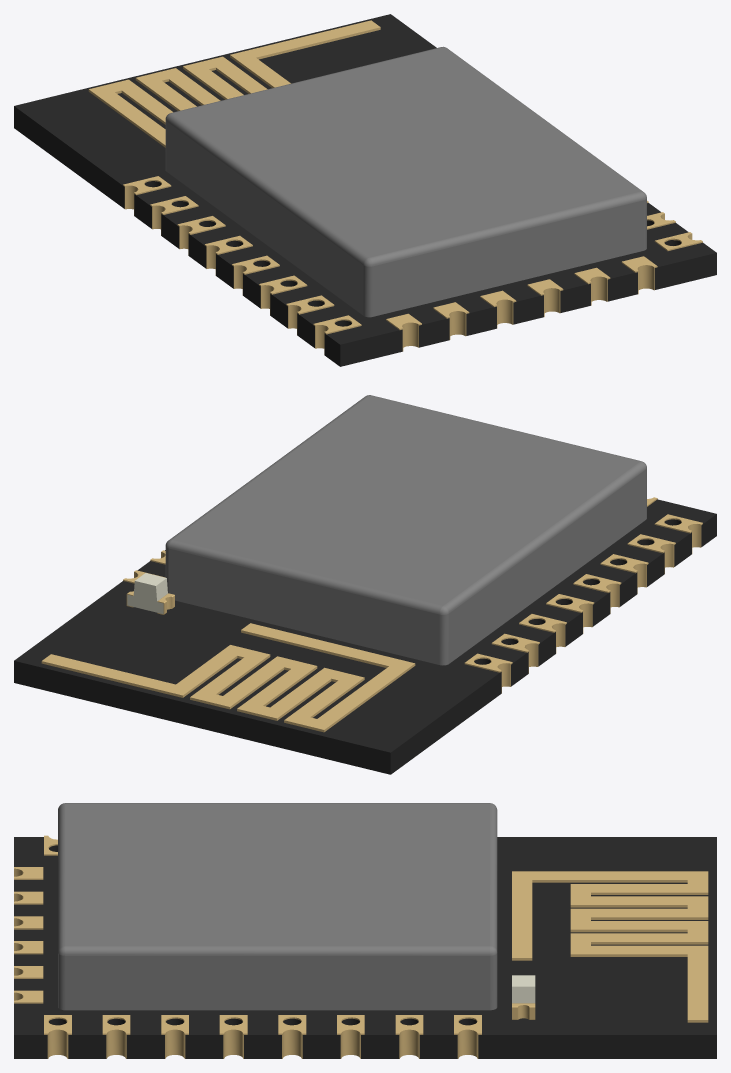
Rendered from kc-esp-12e.glb.
The picture shows the model from 3 angles, top to bottom: view 1: azimuth 30°, elevation 25°; view 2: azimuth 150°, elevation 25°; view 3: azimuth 270°, elevation 25°; orthographic projection. The views are drawn at different scales.
Visible parts, largest first — view 1: 0.25_0.25_0.25_0, 0_0_0_0, 0.75_0.5_0.25_0.9; view 2: 0.25_0.25_0.25_0, 0_0_0_0, 0.75_0.5_0.25_0.9, 0.75_0.75_0.6666666666666666_0; view 3: 0.25_0.25_0.25_0, 0_0_0_0, 0.75_0.5_0.25_0.9, 0.75_0.75_0.6666666666666666_0.
Part boxes in pixels (box(x1,y1,x2,y2)): 0.25_0.25_0.25_0: box(165, 46, 646, 317); 0_0_0_0: box(14, 14, 716, 366); 0.75_0.5_0.25_0.9: box(88, 20, 702, 354); 0.25_0.25_0.25_0: box(165, 395, 646, 665); 0_0_0_0: box(14, 499, 716, 774); 0.75_0.5_0.25_0.9: box(41, 497, 702, 732); 0.75_0.75_0.6666666666666666_0: box(127, 573, 167, 613); 0.25_0.25_0.25_0: box(58, 803, 497, 1010); 0_0_0_0: box(14, 837, 716, 1058); 0.75_0.5_0.25_0.9: box(14, 835, 708, 1058); 0.75_0.75_0.6666666666666666_0: box(512, 975, 535, 1003).
Bounding box in the file's own units: 1.6 × 0.32 × 2.4.
